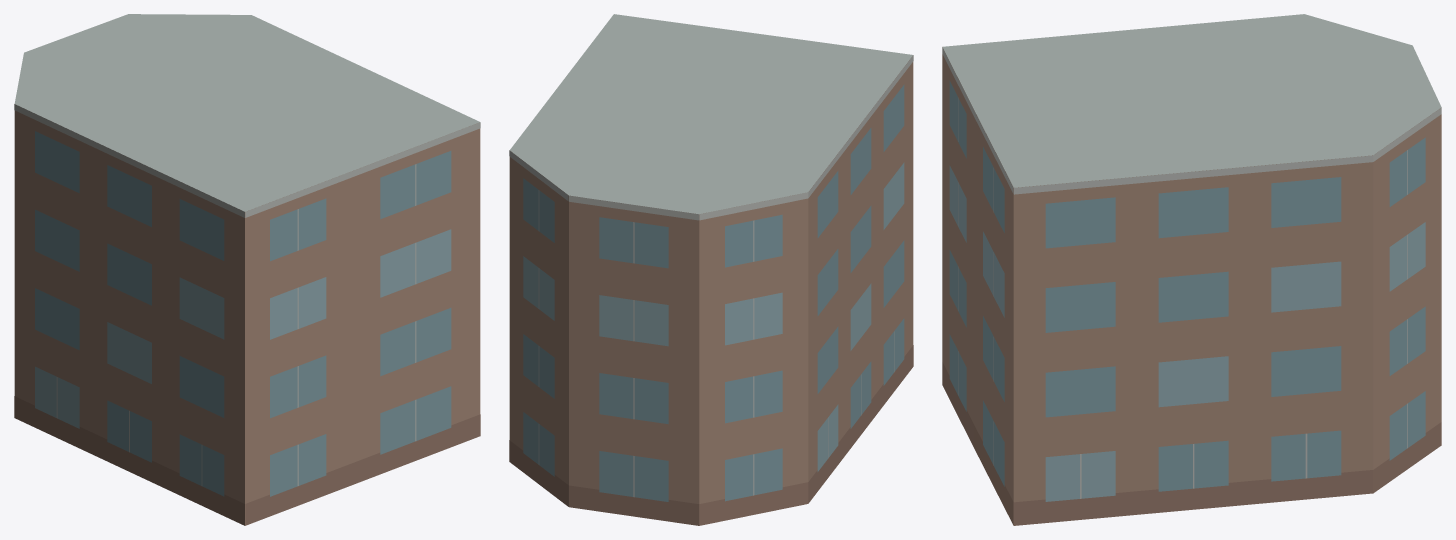
The model's file is residential-1bfc4be9-06ac-450c-bdd4-f7a6b8897ab9.glb.
3 renders of one model, left to right at view 1: azimuth 30°, elevation 25°; view 2: azimuth 150°, elevation 25°; view 3: azimuth 270°, elevation 25°, orthographic. The views are drawn at different scales.
Visible parts, largest first — view 1: residential-1bfc4be9-06ac-450c-bdd4-f7a6b8897ab9.tmp; view 2: residential-1bfc4be9-06ac-450c-bdd4-f7a6b8897ab9.tmp; view 3: residential-1bfc4be9-06ac-450c-bdd4-f7a6b8897ab9.tmp.
Boxes of the visible parts, <box> form: residential-1bfc4be9-06ac-450c-bdd4-f7a6b8897ab9.tmp: <box>14,14,480,525</box>; residential-1bfc4be9-06ac-450c-bdd4-f7a6b8897ab9.tmp: <box>509,14,913,525</box>; residential-1bfc4be9-06ac-450c-bdd4-f7a6b8897ab9.tmp: <box>942,14,1441,525</box>.
Bounding box in the file's own units: 13.46 × 12.2 × 16.34.
